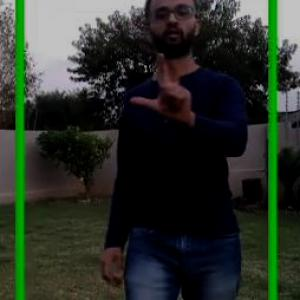land_hand: (128, 40, 197, 124)
